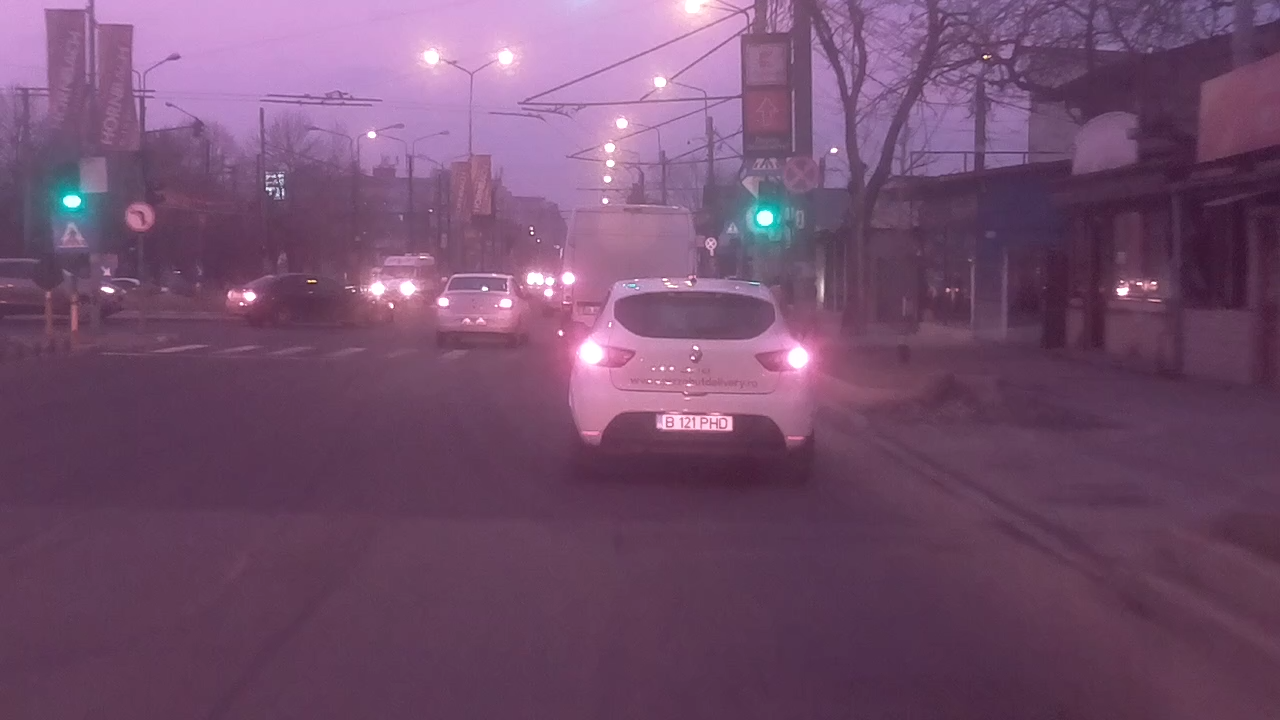license-plate: (652, 412, 735, 433)
